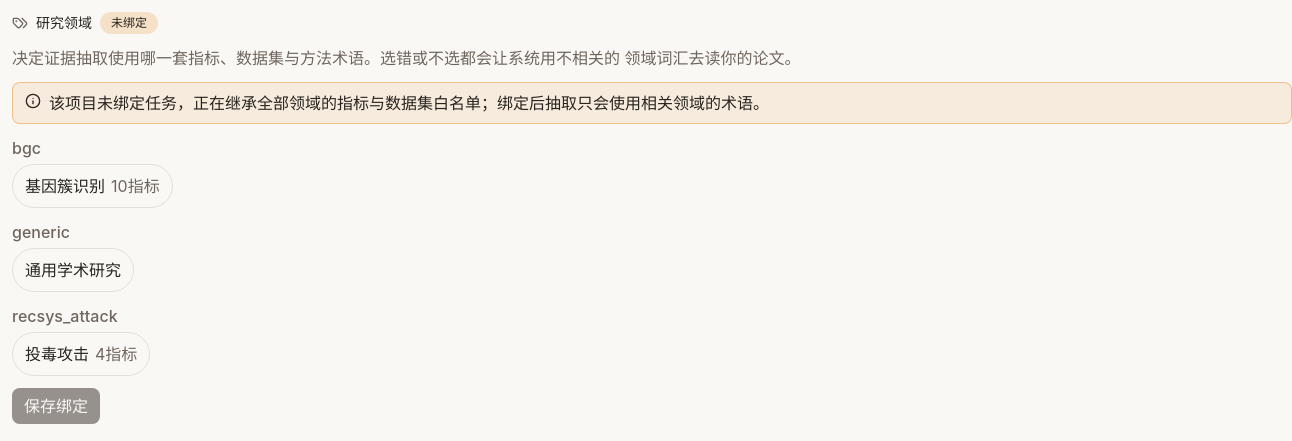
Scenario: 研究领域绑定 › 提交所选任务并回显服务端返回的绑定
The width and height of the screenshot is (1292, 441).
Click the checkbox labelled "基因簇识别 10指标".
click(92, 186)  # box [12,164,173,208]
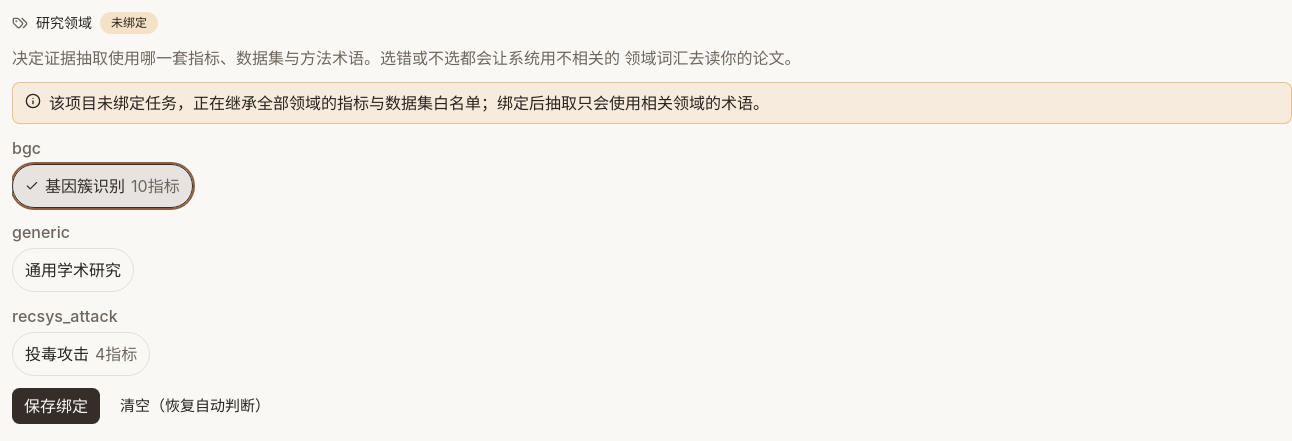
Click the button "保存绑定".
click(56, 406)  # box [12,388,100,424]
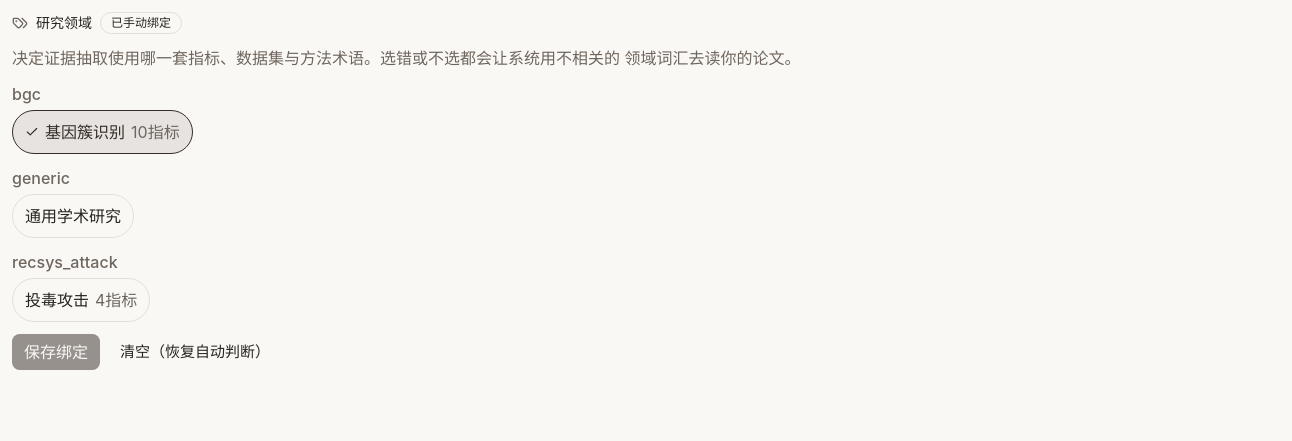
Check: the text "已手动绑定" is shown, box [100,12,182,34]
